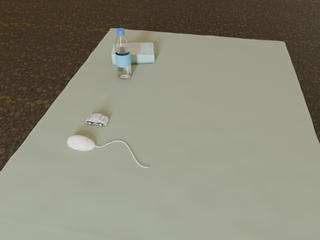book: (112, 43, 154, 64)
bottle: (115, 28, 132, 78)
mouse: (67, 135, 95, 151)
toy_car: (86, 114, 109, 126)
